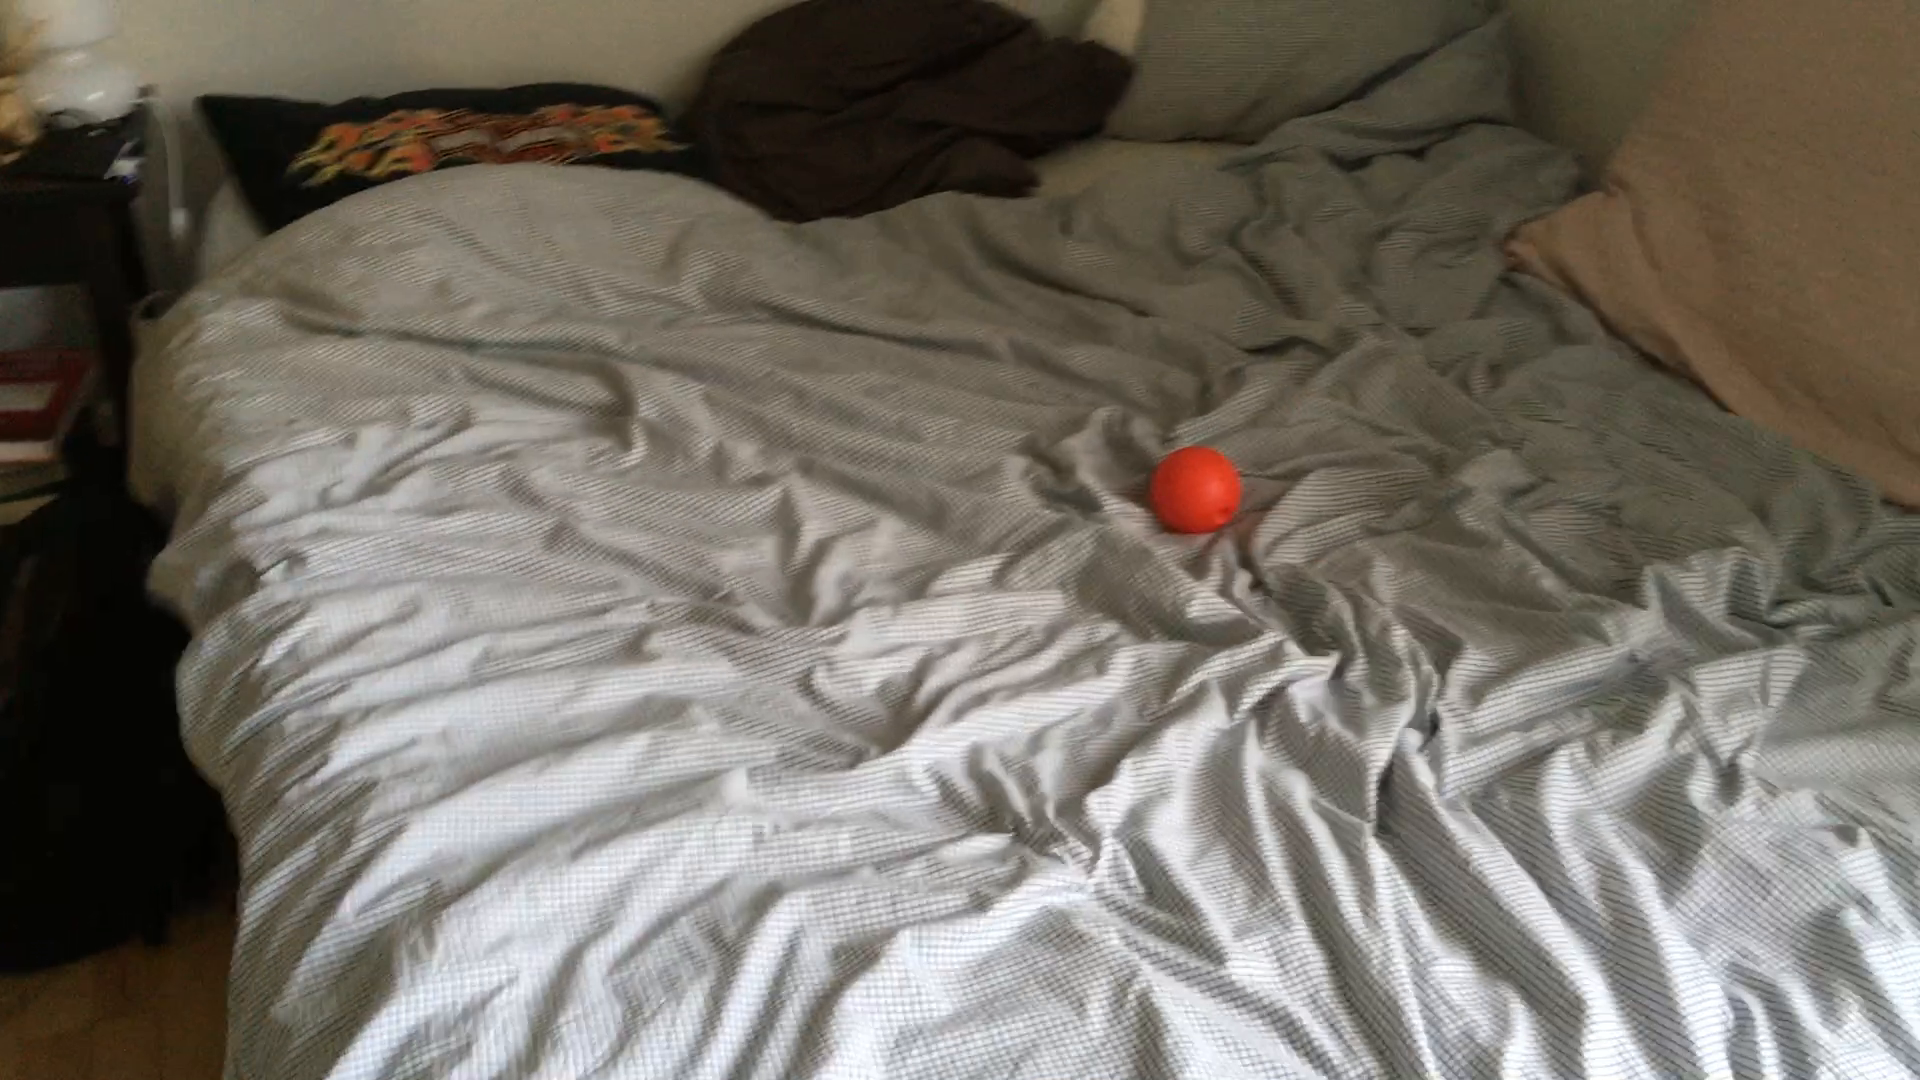Ball: (1150, 443, 1245, 533)
